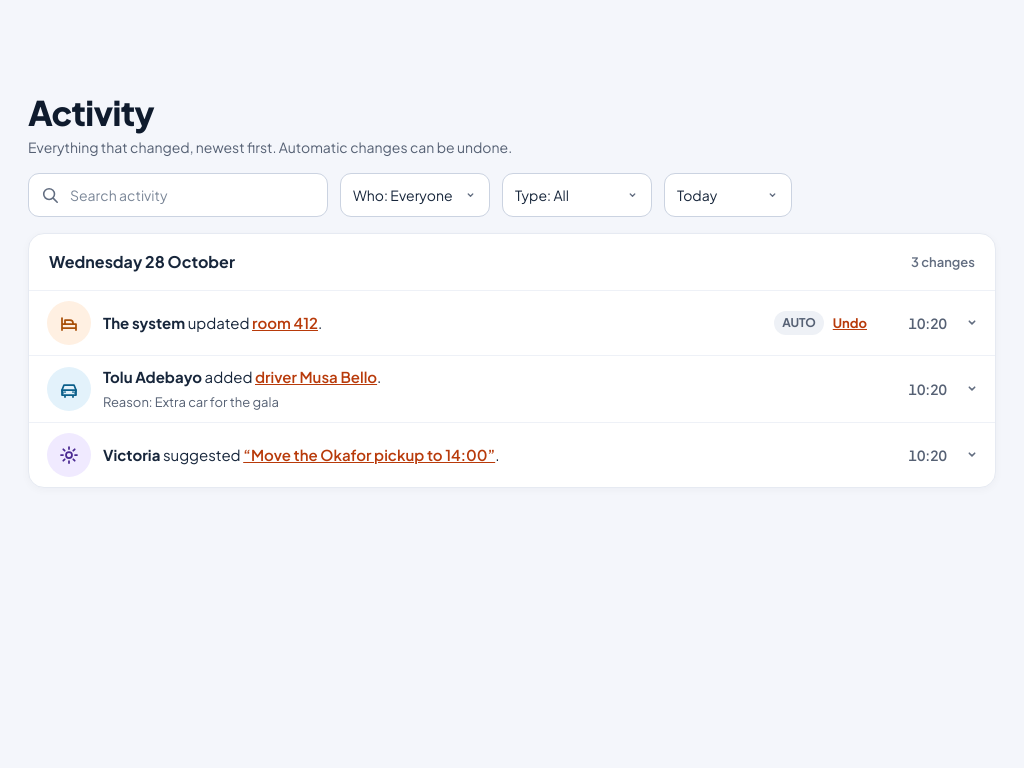
Scenario: ActivityScreen › undoes an automatic change and confirms it
Expected: the text "3 changes" is shown, [911,252,975,272]
Click the button "Undo" at (850, 323), box [833,313,867,333]
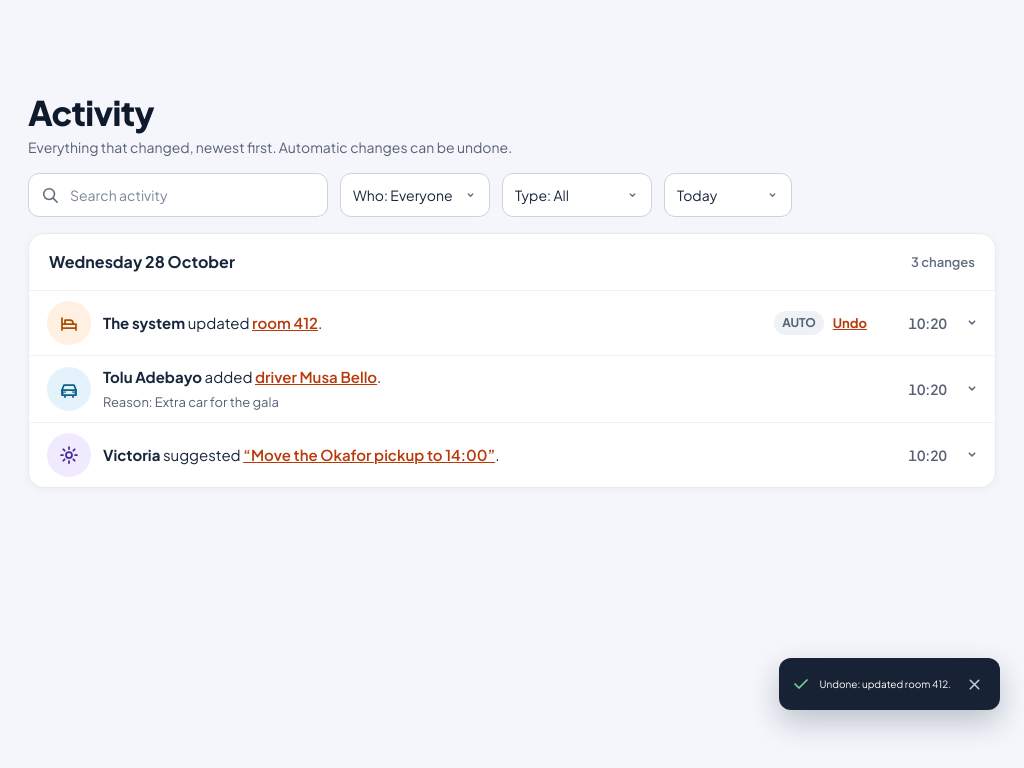
Now the text "Undone: updated room 412." is shown, box [820,674,951,694]
